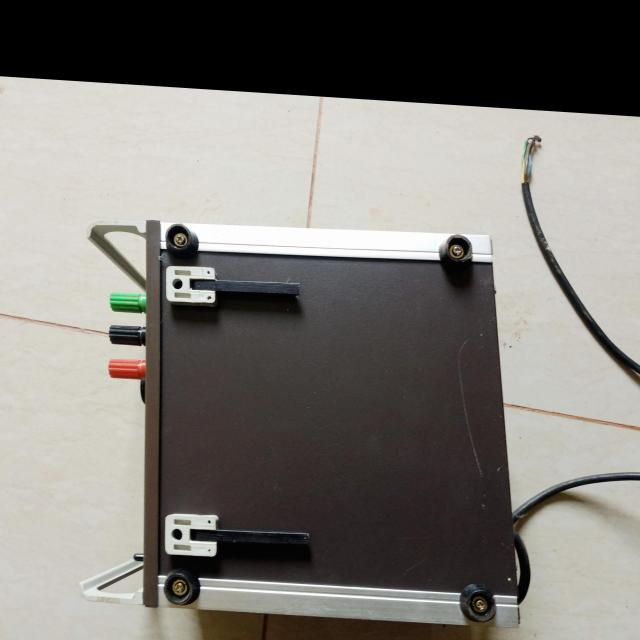Low Distortion Signal Generator: (99, 205, 543, 640)
